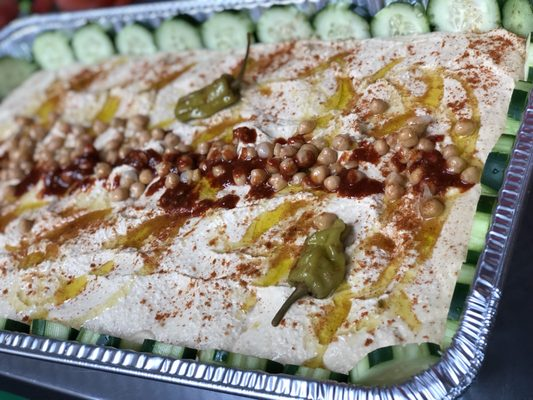sandwich: (0, 24, 496, 384)
